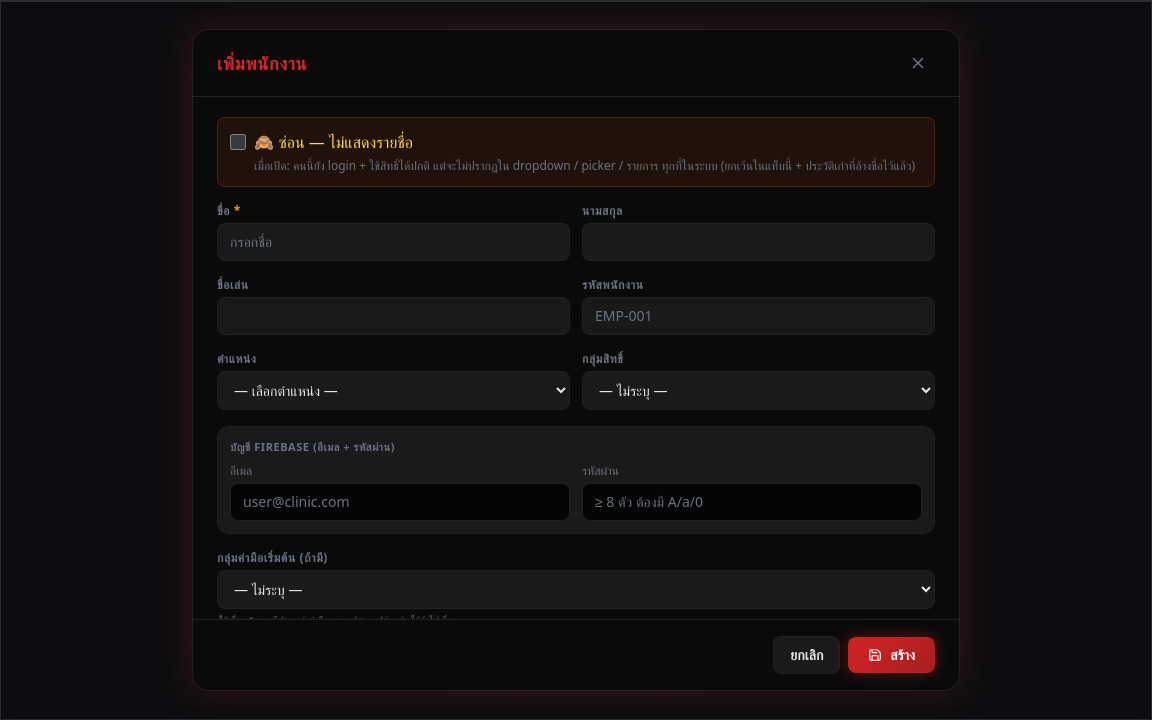
StaffFormModal › SM4: weak password rejected
The width and height of the screenshot is (1152, 720).
Type "X" into the field with placeholder "กรอกชื่อ" at (394, 242), box [217,223,570,261]
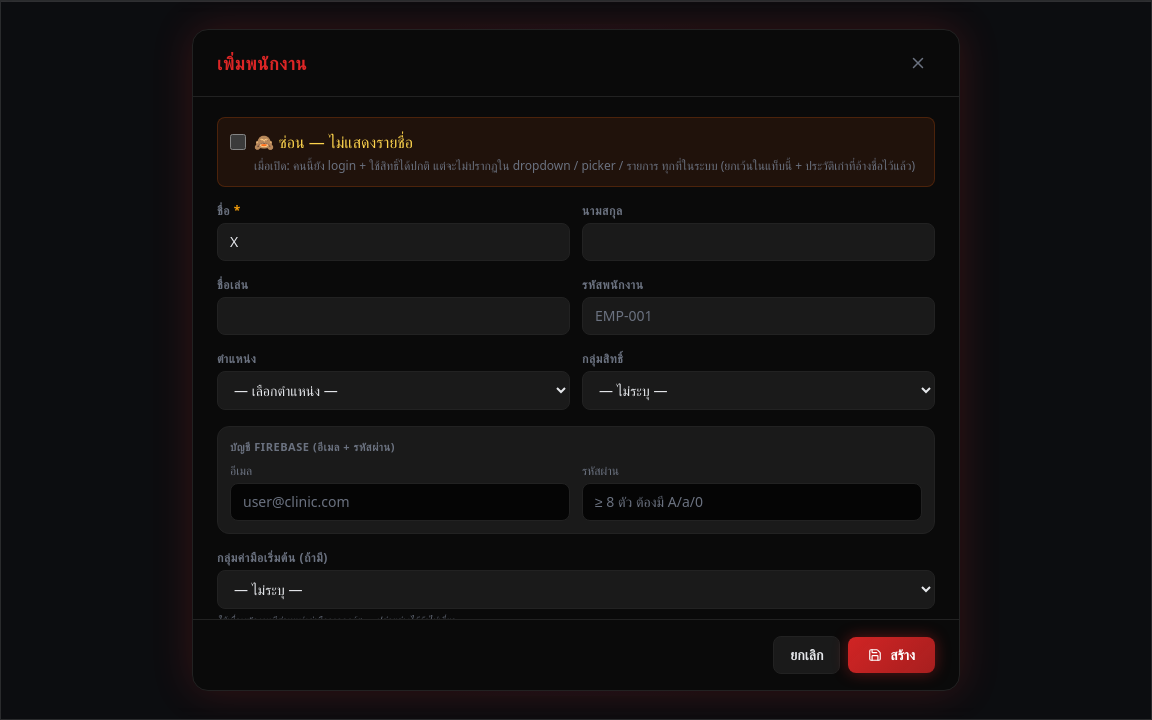
Type "x@y.z" into the field with placeholder "user@clinic.com" at (400, 502), box [230,483,570,521]
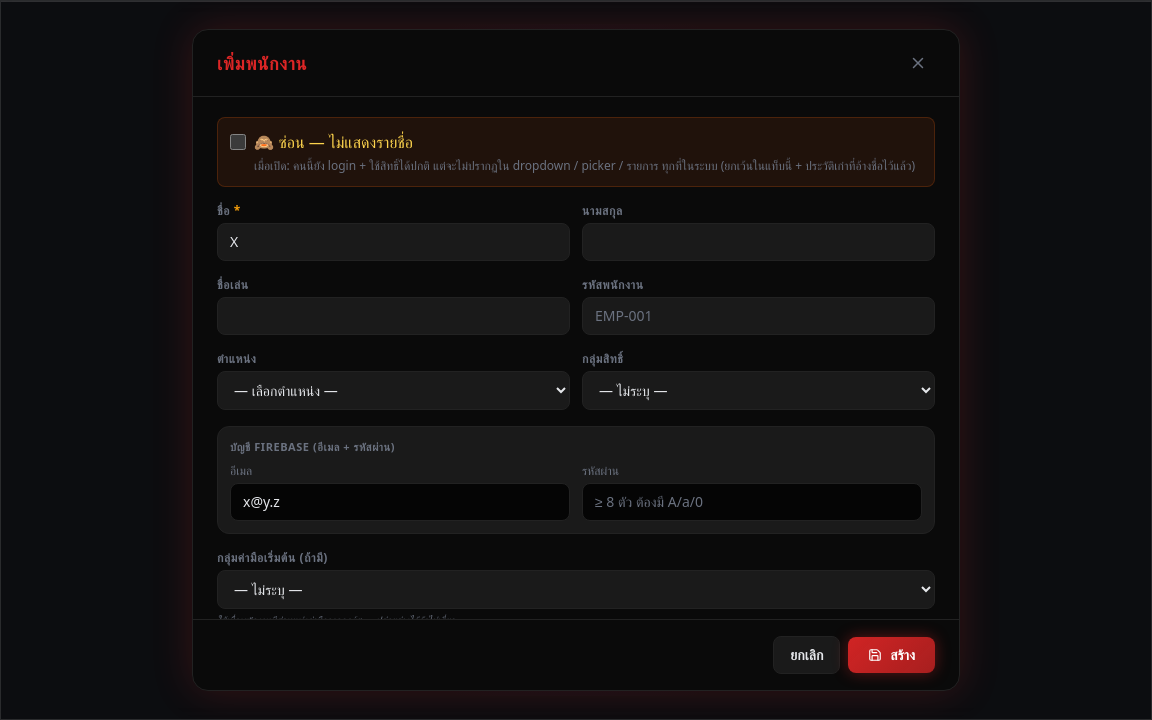
Type "weak" into the password field with placeholder "≥ 8 ตัว ต้องมี A/a/0" at (752, 502), box [582,483,922,521]
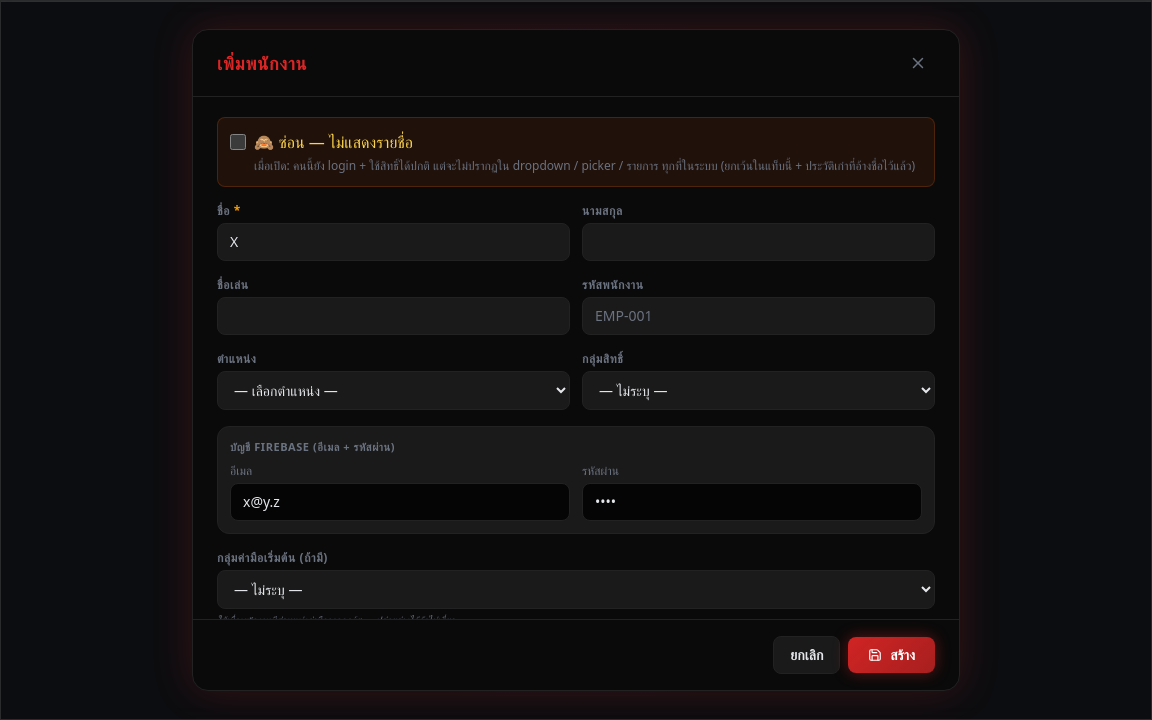
Click the button "สร้าง" at (892, 655), box [848,637,935,673]
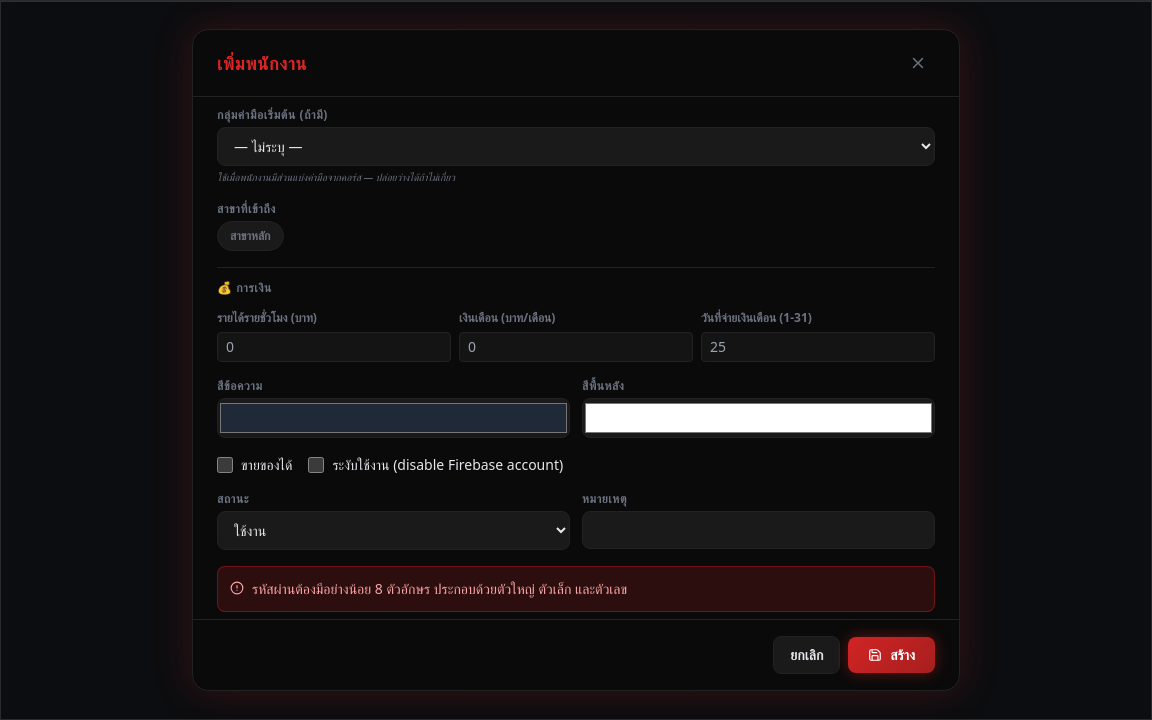
Check: the text "รหัสผ่านต้อง" is shown, box [252,579,627,598]
